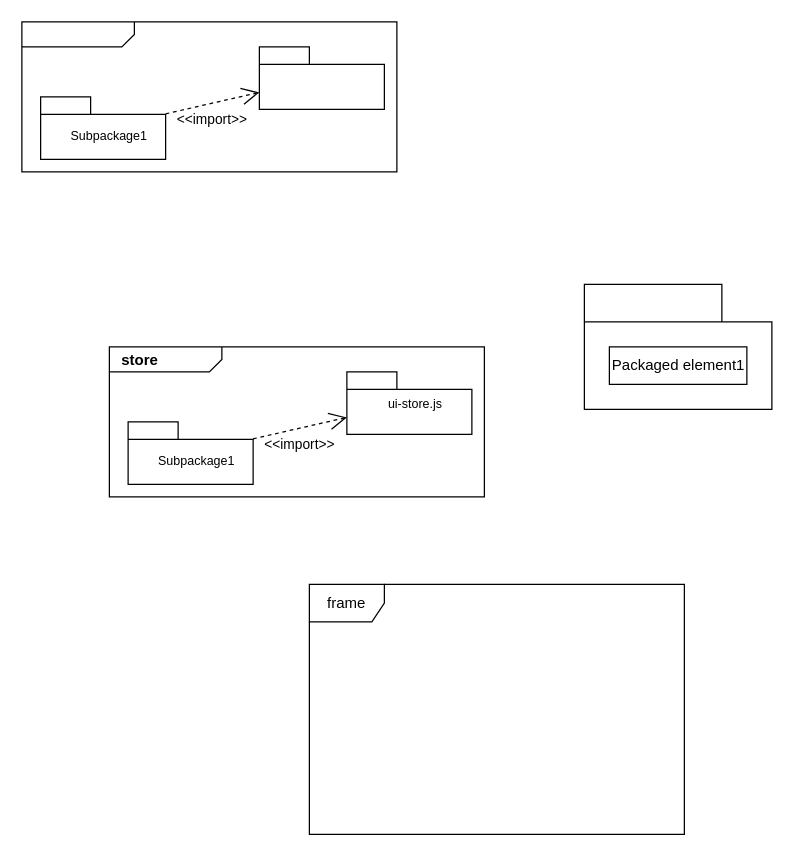
Image size: 794x856. Some labels were removed from this diagram. The shapes that lost their labels are listed below. From the top down, each one's box as (x1, y1, x2, y2) in pixels, then its label:
(21, 21, 397, 172): pkg Name
(258, 46, 384, 109): Subpackage2
(583, 283, 772, 409): Package1
